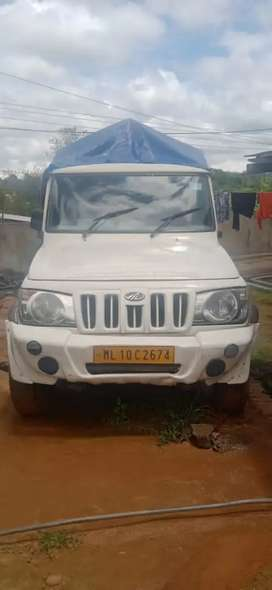ML10C2674: (94, 346, 174, 364)
